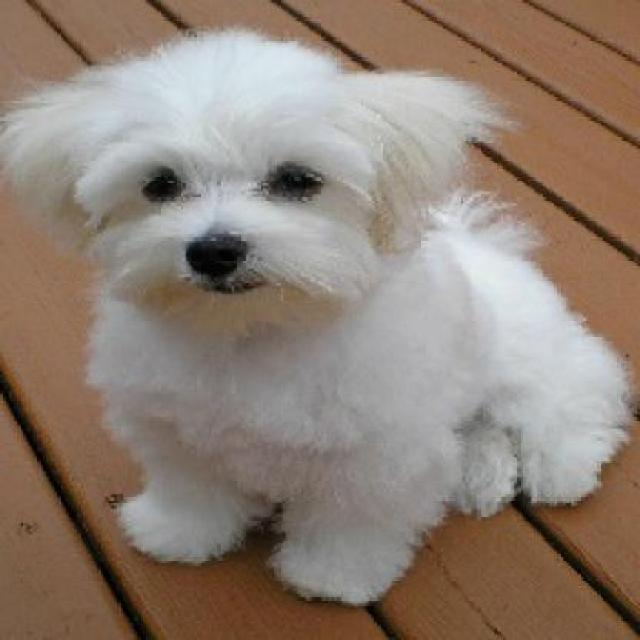Dog: (0, 17, 637, 609)
